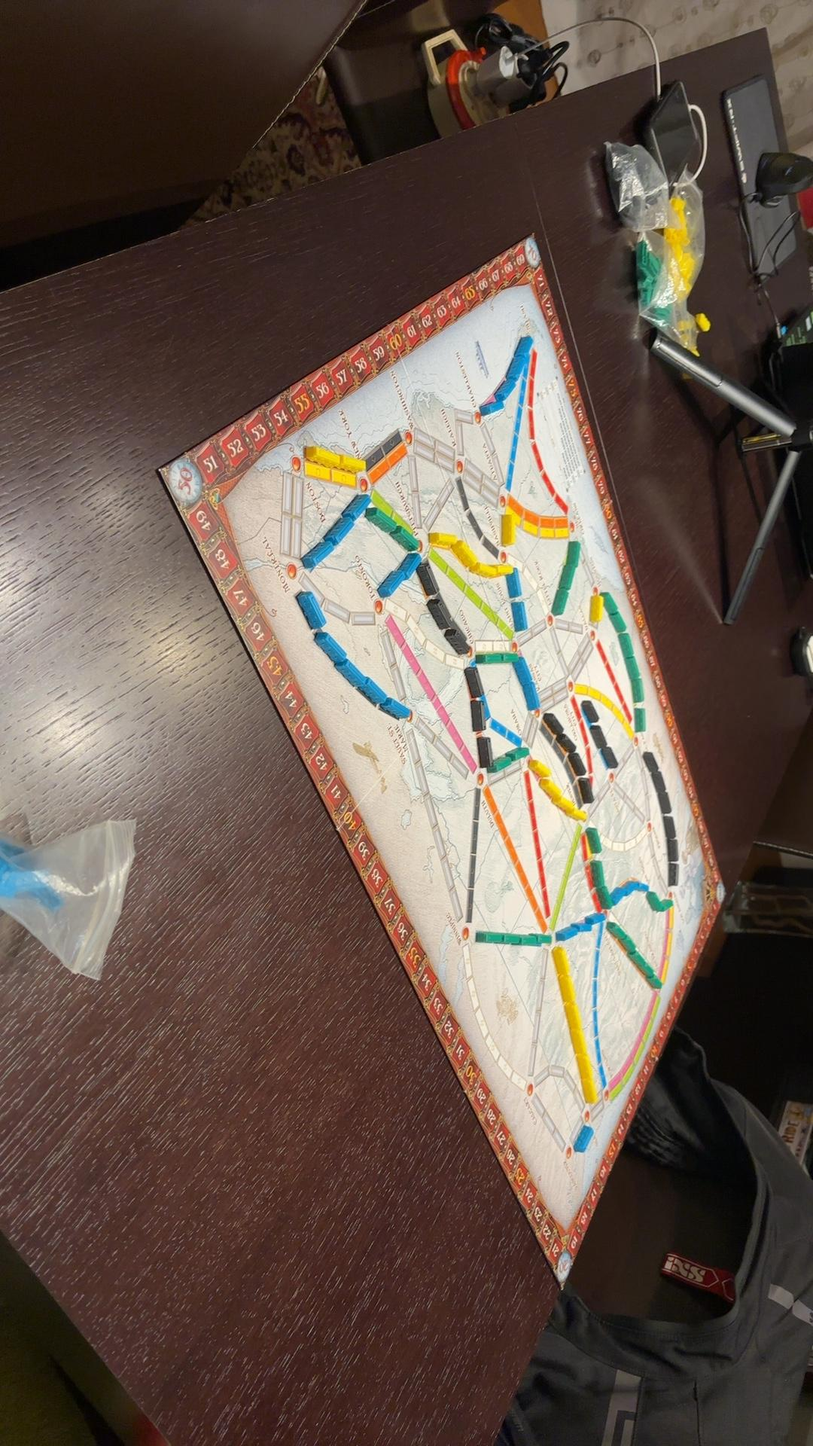black_train: (416, 562, 437, 597), (464, 667, 483, 699), (543, 712, 564, 737), (477, 735, 492, 768), (566, 752, 586, 776), (471, 700, 486, 731), (557, 732, 577, 754), (577, 776, 592, 803), (591, 725, 607, 750), (582, 702, 598, 725), (601, 746, 617, 768)
blue_train: (296, 591, 325, 630), (315, 630, 346, 664), (303, 542, 332, 569), (381, 699, 410, 719), (511, 600, 528, 631), (506, 569, 520, 597), (556, 926, 580, 941), (583, 913, 603, 928)
green_train: (595, 885, 613, 911), (585, 827, 601, 853), (634, 707, 645, 733)
yellow_train: (304, 446, 337, 467), (334, 458, 365, 473), (429, 532, 458, 547), (589, 593, 603, 623), (501, 514, 514, 545)
